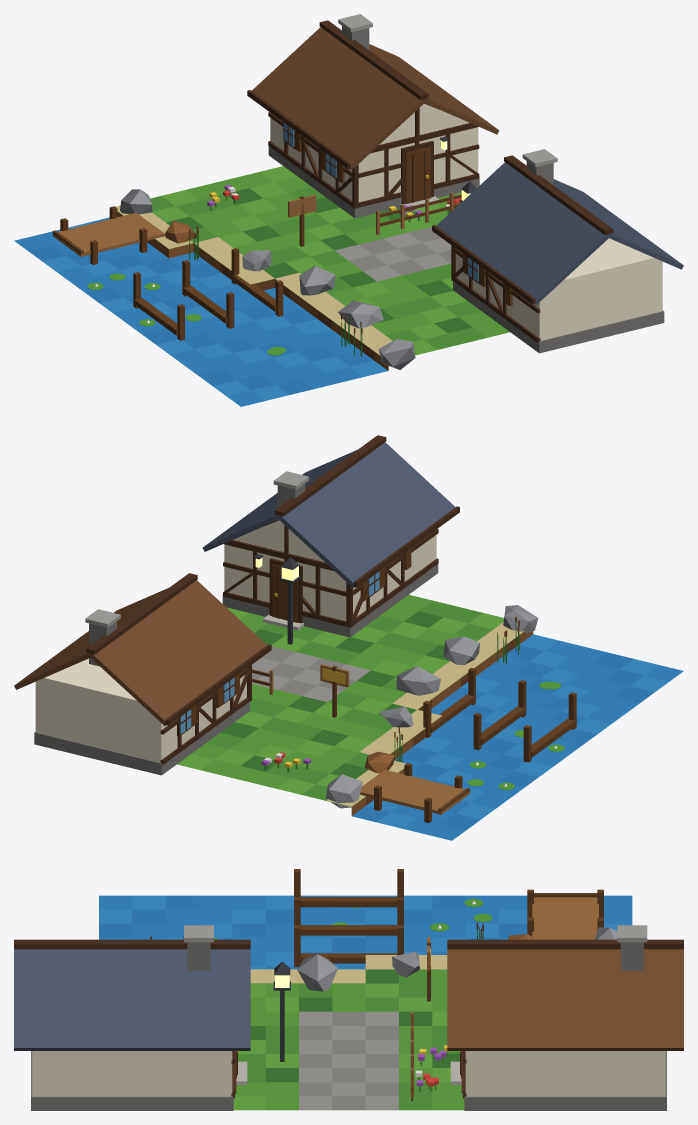
Rendered from chunk_4_5.glb.
The picture shows the model from 3 angles, top to bottom: view 1: azimuth 30°, elevation 25°; view 2: azimuth 150°, elevation 25°; view 3: azimuth 270°, elevation 25°; orthographic projection. The views are drawn at different scales.
Parts seen in each view (by area): view 1: chunk_4_5; view 2: chunk_4_5; view 3: chunk_4_5.
Boxes of the visible parts, box(x1,y1,x2,y2) form: chunk_4_5: box(14, 14, 683, 406); chunk_4_5: box(14, 435, 683, 840); chunk_4_5: box(14, 869, 683, 1110).
Size of the model in its own units: 16.55 by 5.44 by 20.1.
